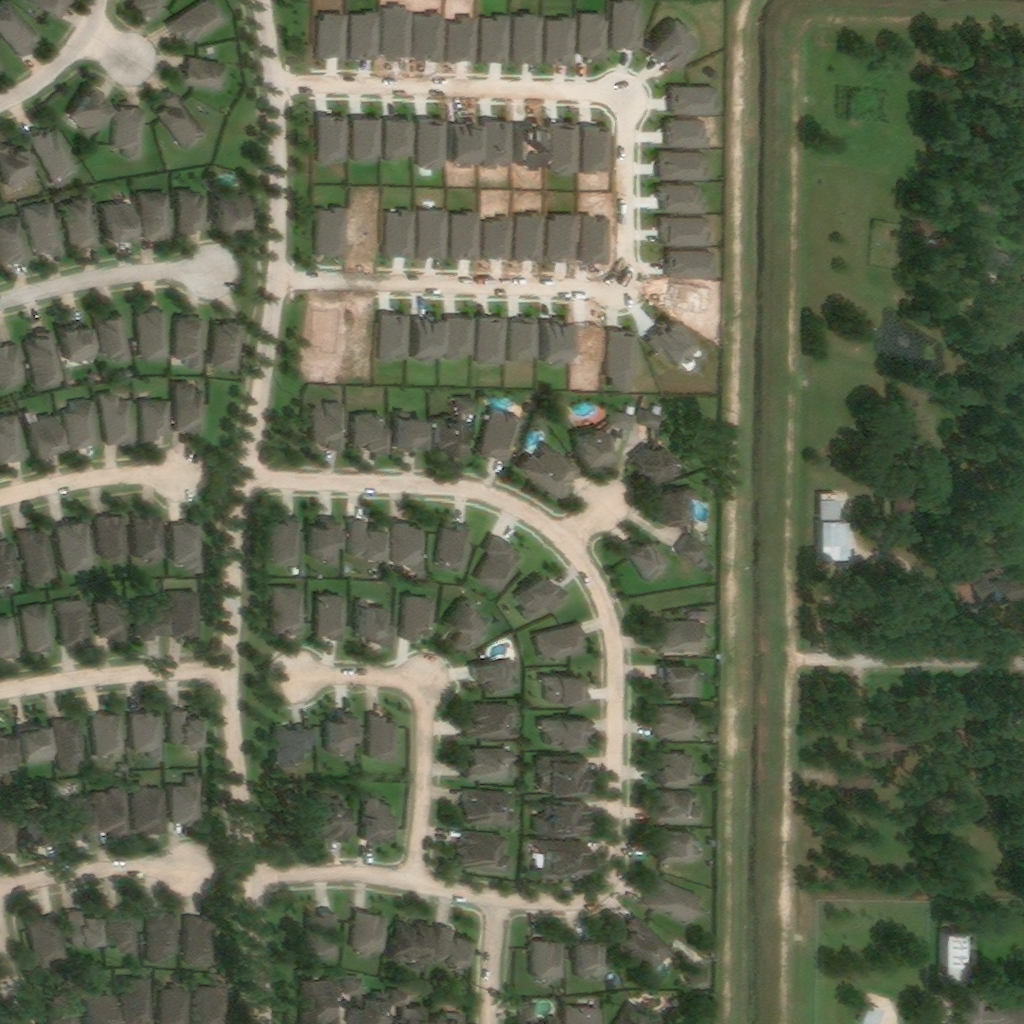minor_damage: (532, 796, 584, 838), (535, 753, 585, 795)
no_damage: (613, 914, 679, 981), (629, 405, 681, 488), (570, 404, 636, 464), (517, 443, 580, 501), (26, 124, 82, 189), (154, 89, 206, 152), (474, 535, 525, 596), (645, 314, 699, 371), (819, 495, 862, 564), (167, 0, 226, 50), (449, 789, 517, 831), (643, 877, 701, 926), (429, 398, 477, 456), (388, 916, 434, 976), (24, 328, 66, 392), (646, 20, 697, 72), (65, 82, 112, 137), (23, 200, 65, 261), (17, 527, 59, 588), (478, 407, 523, 463), (56, 515, 97, 576), (516, 573, 565, 623), (528, 839, 585, 881), (457, 833, 511, 877), (623, 536, 671, 585), (446, 599, 488, 655), (655, 612, 711, 653), (464, 706, 524, 744), (56, 319, 98, 372), (61, 193, 98, 253), (0, 0, 38, 58), (206, 179, 249, 230), (96, 389, 133, 447), (29, 917, 68, 972), (534, 622, 585, 664), (950, 545, 1001, 587), (21, 605, 54, 669), (957, 991, 1021, 1023), (343, 976, 386, 1023), (432, 924, 470, 977), (53, 718, 88, 775), (470, 657, 521, 696), (95, 310, 131, 365), (61, 398, 98, 451), (15, 720, 54, 770), (311, 789, 348, 841), (647, 151, 707, 183), (611, 1, 644, 59), (24, 409, 63, 458), (436, 522, 472, 575), (274, 725, 316, 770), (299, 976, 339, 1023), (655, 706, 703, 745), (568, 931, 605, 981), (654, 485, 697, 528), (0, 144, 34, 198), (270, 585, 302, 642), (171, 521, 204, 576), (605, 327, 638, 382), (55, 598, 91, 648), (309, 402, 343, 454), (130, 710, 162, 765), (131, 783, 164, 836), (170, 774, 203, 827), (183, 913, 216, 966), (210, 319, 242, 373), (135, 309, 168, 361), (93, 712, 126, 764), (474, 316, 507, 368), (174, 316, 204, 373), (101, 199, 138, 245), (351, 908, 384, 959), (514, 14, 543, 72), (114, 105, 144, 161), (93, 788, 128, 836), (480, 16, 510, 72), (307, 516, 339, 568), (178, 57, 224, 93), (147, 910, 177, 965), (531, 938, 564, 988), (410, 313, 440, 368), (542, 317, 572, 372), (348, 12, 378, 67), (121, 970, 152, 1023), (653, 828, 701, 862), (537, 711, 585, 745), (96, 514, 129, 563), (0, 217, 31, 269), (168, 591, 200, 641), (392, 521, 424, 571), (655, 792, 702, 826), (541, 672, 588, 706), (326, 710, 356, 763), (313, 590, 343, 643), (509, 318, 541, 367), (306, 907, 335, 961), (443, 314, 474, 364), (664, 249, 714, 280), (25, 806, 60, 850), (174, 382, 203, 435), (94, 593, 126, 641), (399, 592, 431, 640), (657, 183, 705, 215), (139, 191, 169, 242), (108, 905, 138, 956), (464, 750, 515, 780), (270, 517, 300, 568), (578, 13, 608, 64), (669, 85, 718, 116), (350, 115, 381, 164), (315, 207, 345, 257), (167, 706, 198, 754), (358, 795, 389, 843), (392, 411, 423, 459), (366, 712, 396, 761), (134, 516, 165, 563), (354, 602, 387, 646), (67, 909, 101, 951), (851, 725, 905, 751), (57, 796, 92, 836), (657, 661, 696, 696), (0, 413, 25, 467), (654, 754, 693, 788), (131, 598, 164, 638), (351, 519, 383, 560), (0, 342, 26, 392), (351, 411, 381, 454), (384, 117, 412, 163), (178, 189, 206, 234), (192, 987, 227, 1023), (391, 991, 429, 1023), (139, 398, 168, 438), (159, 985, 188, 1023), (615, 1001, 662, 1023), (0, 805, 20, 856), (49, 989, 79, 1023), (941, 926, 964, 970), (676, 535, 708, 566), (0, 543, 21, 590), (0, 616, 21, 663), (83, 994, 115, 1023), (130, 0, 167, 23), (0, 729, 18, 776), (519, 1002, 559, 1023), (838, 764, 868, 789), (26, 0, 65, 18), (563, 1006, 600, 1023), (860, 1002, 886, 1023), (431, 1012, 463, 1023), (536, 418, 549, 430), (293, 569, 300, 578)
